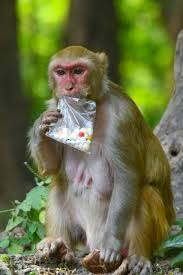monkey: (37, 19, 176, 255)
